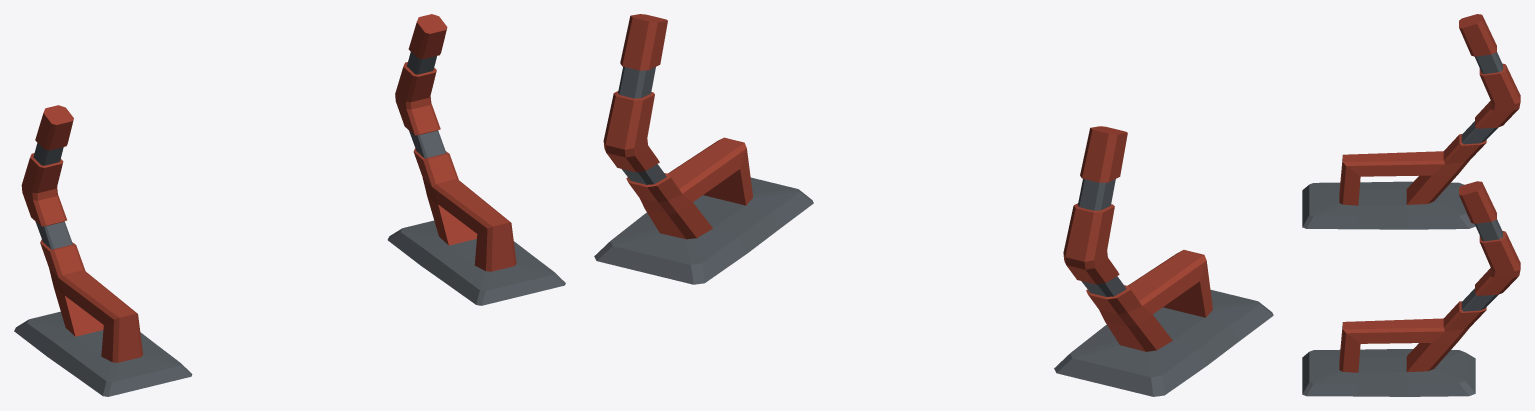
Rendered from Dropship_05_Rear_Landers_Red.fbx.
The picture shows the model from 3 angles, left to right: view 1: azimuth 30°, elevation 25°; view 2: azimuth 150°, elevation 25°; view 3: azimuth 270°, elevation 25°; orthographic projection. The views are drawn at different scales.
Parts seen in each view (by area): view 1: Dropship_05_Rear_Landers_Red; view 2: Dropship_05_Rear_Landers_Red; view 3: Dropship_05_Rear_Landers_Red.
Boxes of the visible parts, box(x1,y1,x2,y2) form: Dropship_05_Rear_Landers_Red: box(14, 14, 565, 396); Dropship_05_Rear_Landers_Red: box(594, 14, 1273, 396); Dropship_05_Rear_Landers_Red: box(1302, 14, 1520, 396).
Bounding box in the file's own units: 462 × 198 × 205.
Materials: 1 (1 with a texture image).
